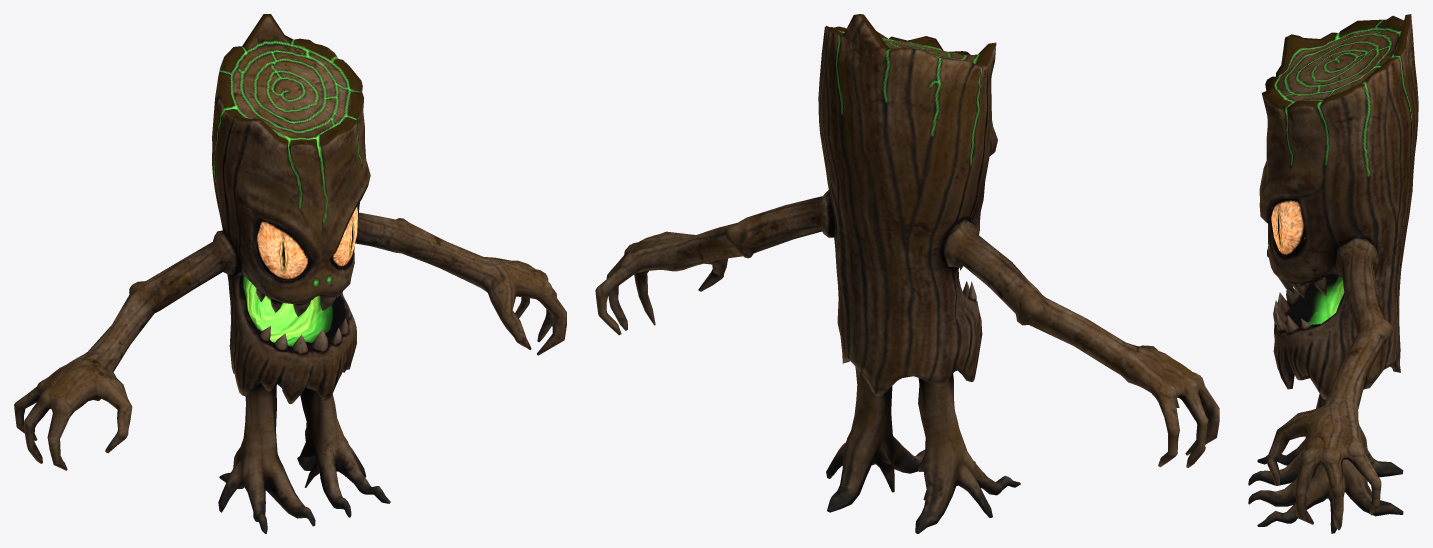
Rendered from stump.glb.
3 renders of one model, left to right at view 1: azimuth 30°, elevation 25°; view 2: azimuth 150°, elevation 25°; view 3: azimuth 270°, elevation 25°, orthographic. The views are drawn at different scales.
Parts seen in each view (by area): view 1: Circle; view 2: Circle; view 3: Circle.
Boxes of the visible parts, x1=… form: Circle: x1=14, y1=14, x2=566, y2=533; Circle: x1=595, y1=14, x2=1219, y2=533; Circle: x1=1248, y1=14, x2=1418, y2=533.
Size of the model in its own units: 1.42 by 1.16 by 0.3674.
Materials: 1 (1 with a texture image).
